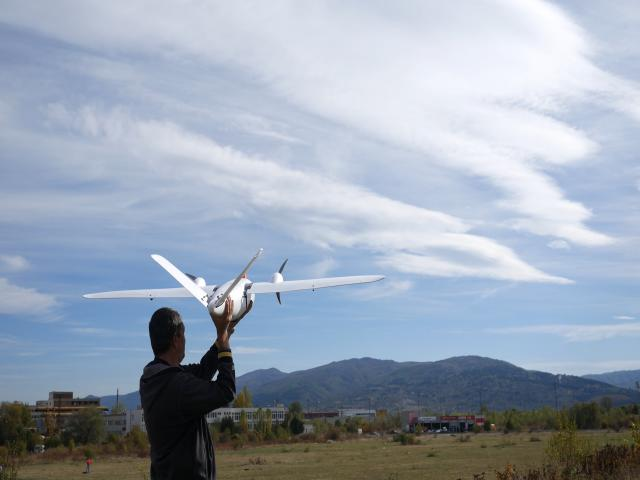plane: (82, 248, 384, 332)
